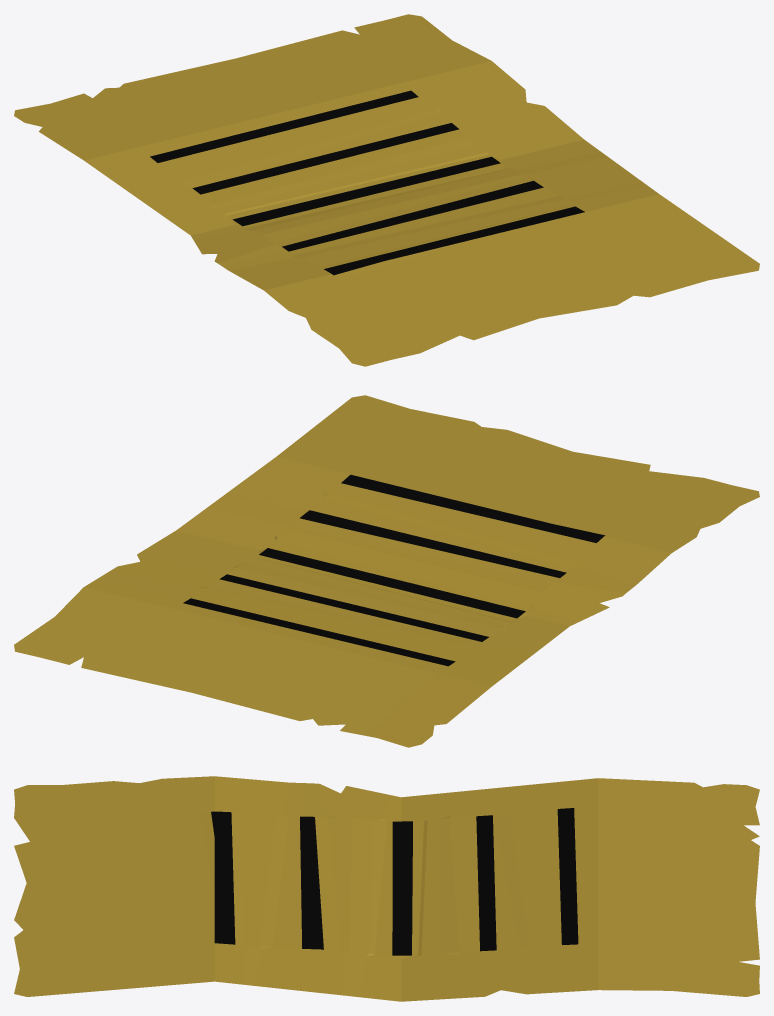
The model's file is paper.fbx.
3 views of the same model, one above another, from view 1: azimuth 30°, elevation 25°; view 2: azimuth 150°, elevation 25°; view 3: azimuth 270°, elevation 25° (orthographic). The views are drawn at different scales.
Visible parts, largest first — view 1: Plane; view 2: Plane; view 3: Plane.
Boxes of the visible parts, <box> form: Plane: <box>14,14,759,366</box>; Plane: <box>14,395,759,747</box>; Plane: <box>14,776,759,1001</box>.
Size of the model in its own units: 117 by 3.48 by 173.
